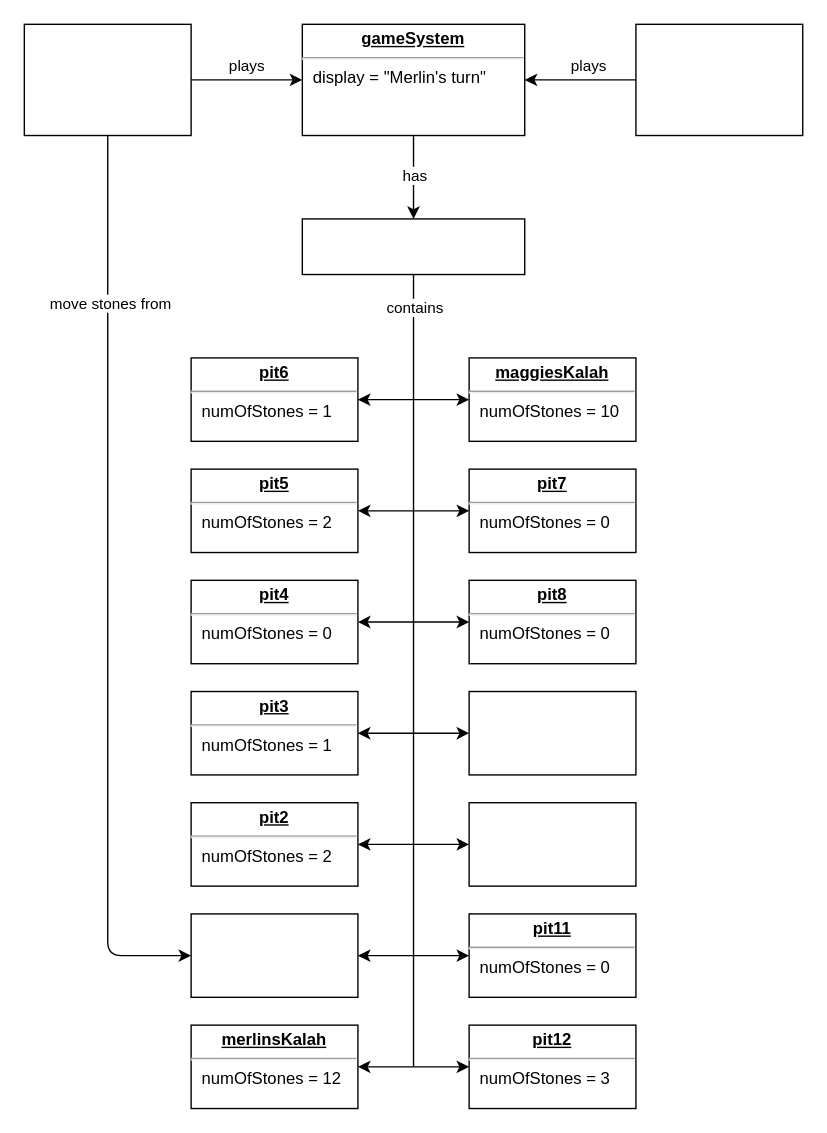
Some shapes in this 827 by 1133 pixel diagram are drawn without their labels. Each missing label, with the box of its shape:
board: (301, 218, 525, 275)
pit1 numOfStones = 5: (190, 913, 358, 997)
pit10 numOfStones = 0: (468, 801, 636, 886)
pit9 numOfStones = 0: (468, 690, 636, 775)
player1 name = "Merlin" turn = true: (23, 23, 191, 136)
player2 name = "Maggie" turn = false: (635, 23, 803, 136)
